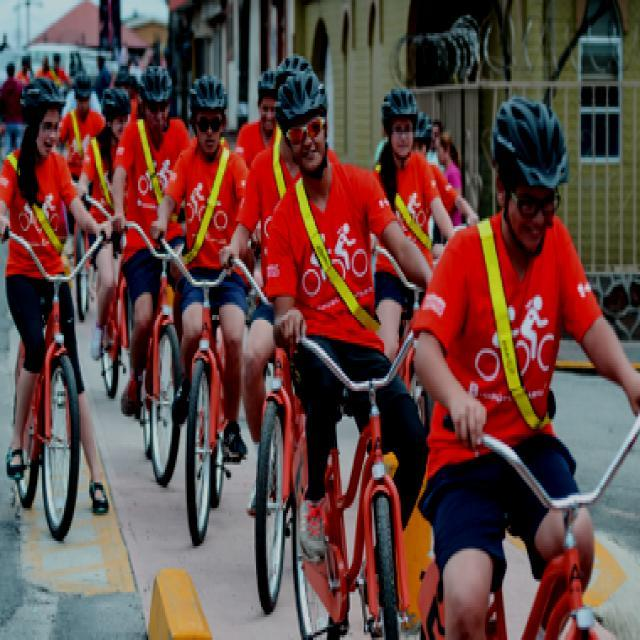Helmet: (490, 89, 568, 259), (272, 68, 328, 178), (17, 71, 68, 155), (376, 84, 426, 162), (186, 71, 230, 158)
